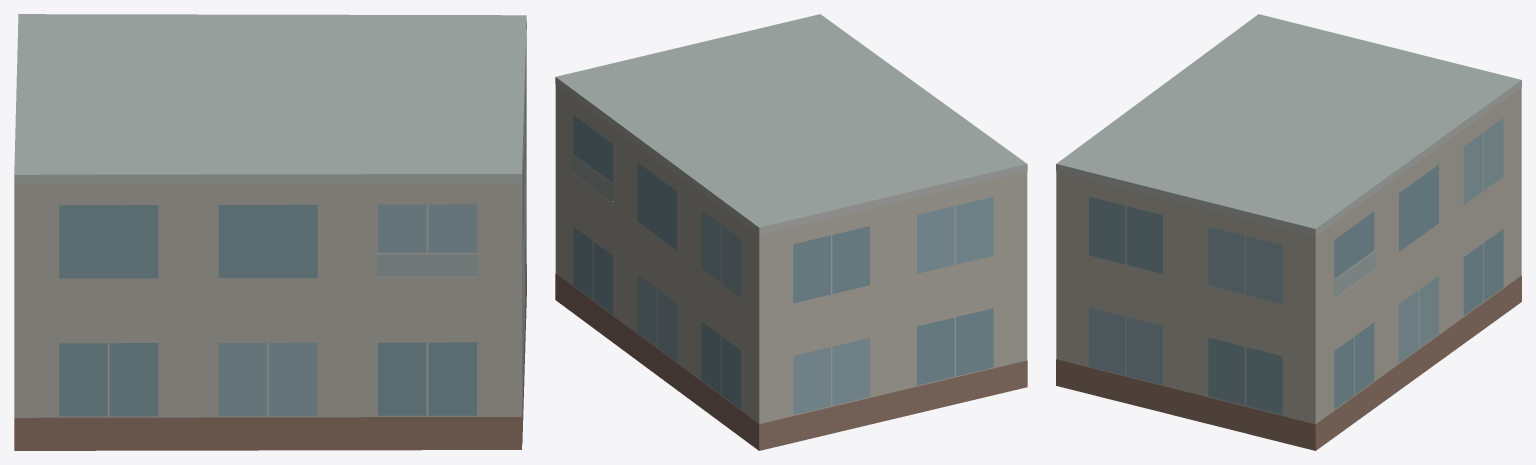
The model's file is survey-upis-32724136.glb.
3 renders of one model, left to right at view 1: azimuth 30°, elevation 25°; view 2: azimuth 150°, elevation 25°; view 3: azimuth 270°, elevation 25°, orthographic. The views are drawn at different scales.
Visible parts, largest first — view 1: survey-upis-32724136.tmp; view 2: survey-upis-32724136.tmp; view 3: survey-upis-32724136.tmp.
Boxes of the visible parts, x1,y1,x2,y2 form: survey-upis-32724136.tmp: (14, 14, 526, 450); survey-upis-32724136.tmp: (555, 14, 1027, 450); survey-upis-32724136.tmp: (1056, 14, 1521, 450).
Bounding box in the file's own units: 14.97 × 7.2 × 13.7.
